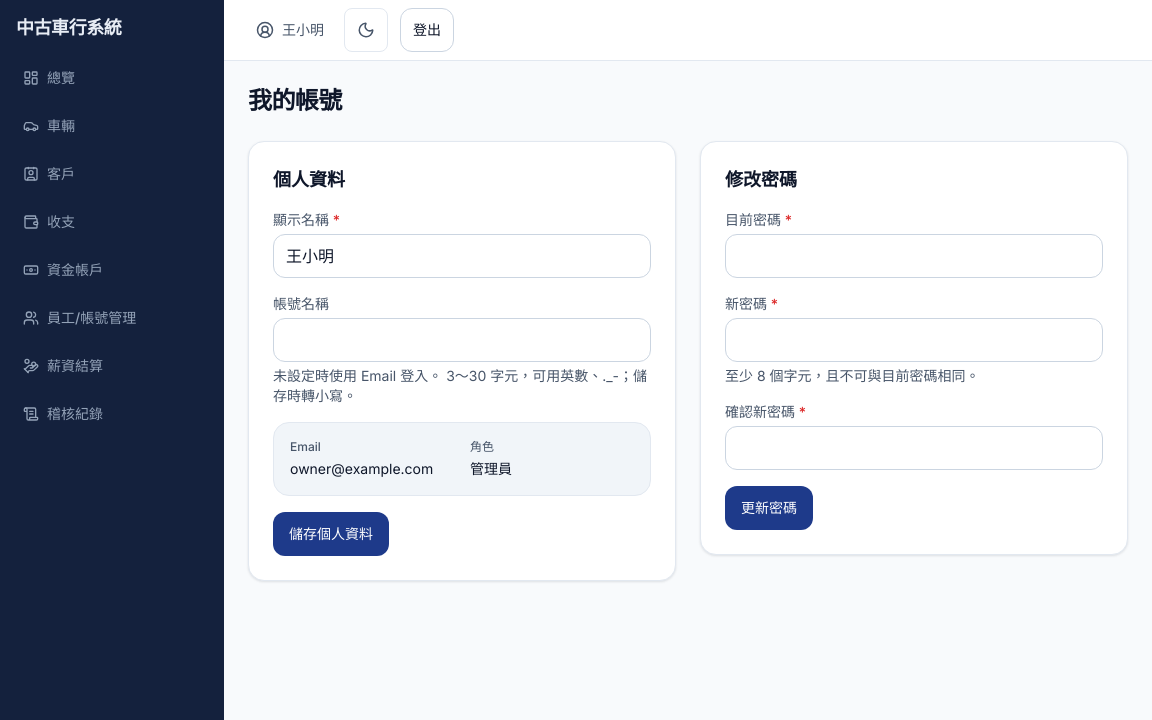
Test: Account › loads the current user, keeps email and role readonly, and updates the header name
Expected: the heading "我的帳號" is shown, x1=248 y1=86 x2=342 y2=115
Expected: the text "owner@example.com" is shown, x1=290 y1=459 x2=454 y2=479
Replace the text in the field labelled "顯示名稱 *" with "新顯示名稱" at (462, 256), box x1=273 y1=234 x2=651 y2=278
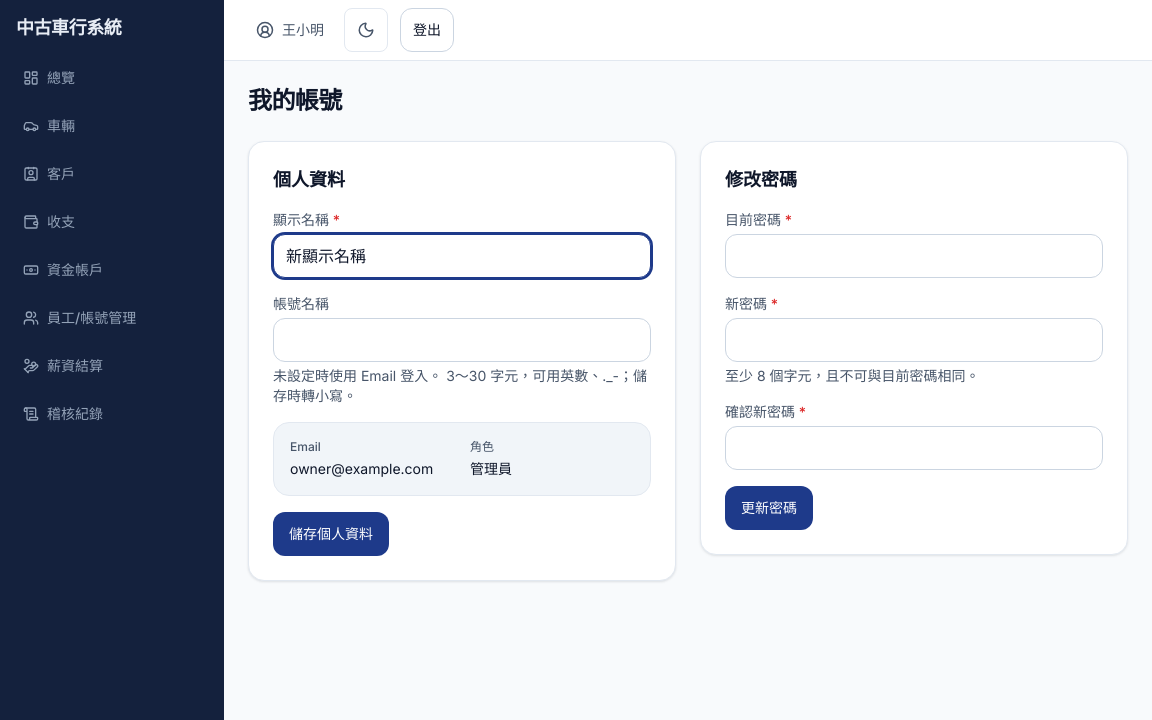
Type "  OwNeR  " into the field labelled "帳號名稱".
click(462, 340); type("  OwNeR  ")  # box x1=273 y1=318 x2=651 y2=362
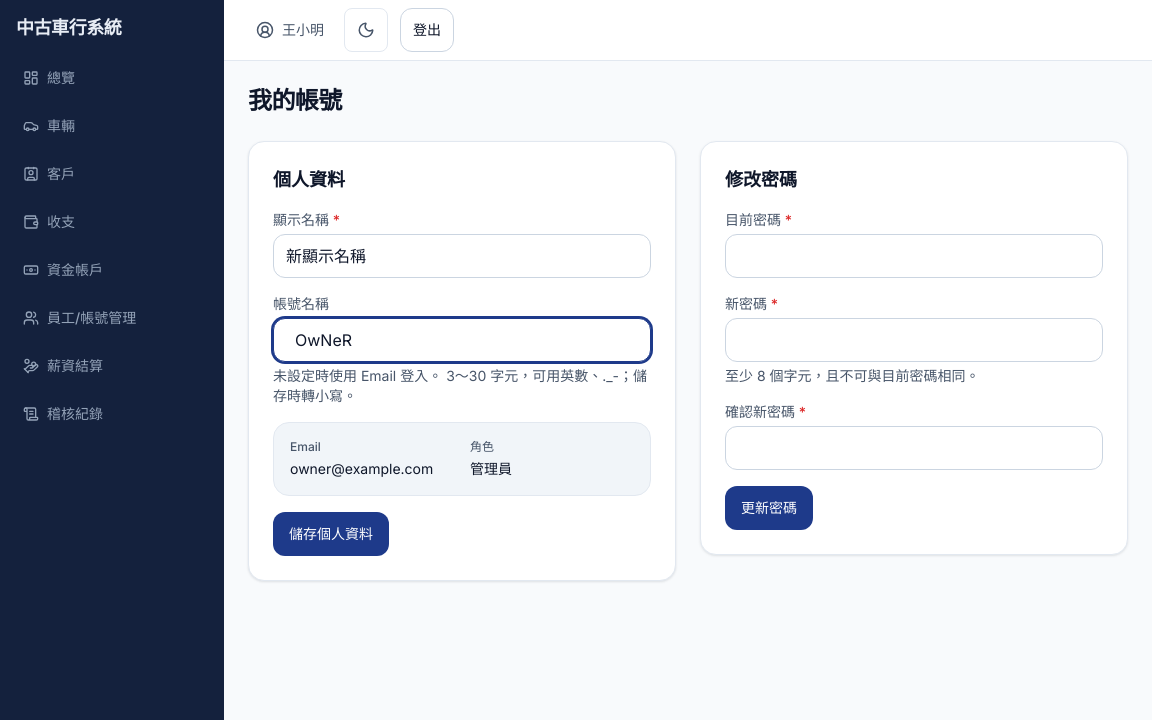
Click the button "儲存個人資料".
click(331, 534)  # box x1=273 y1=512 x2=389 y2=556
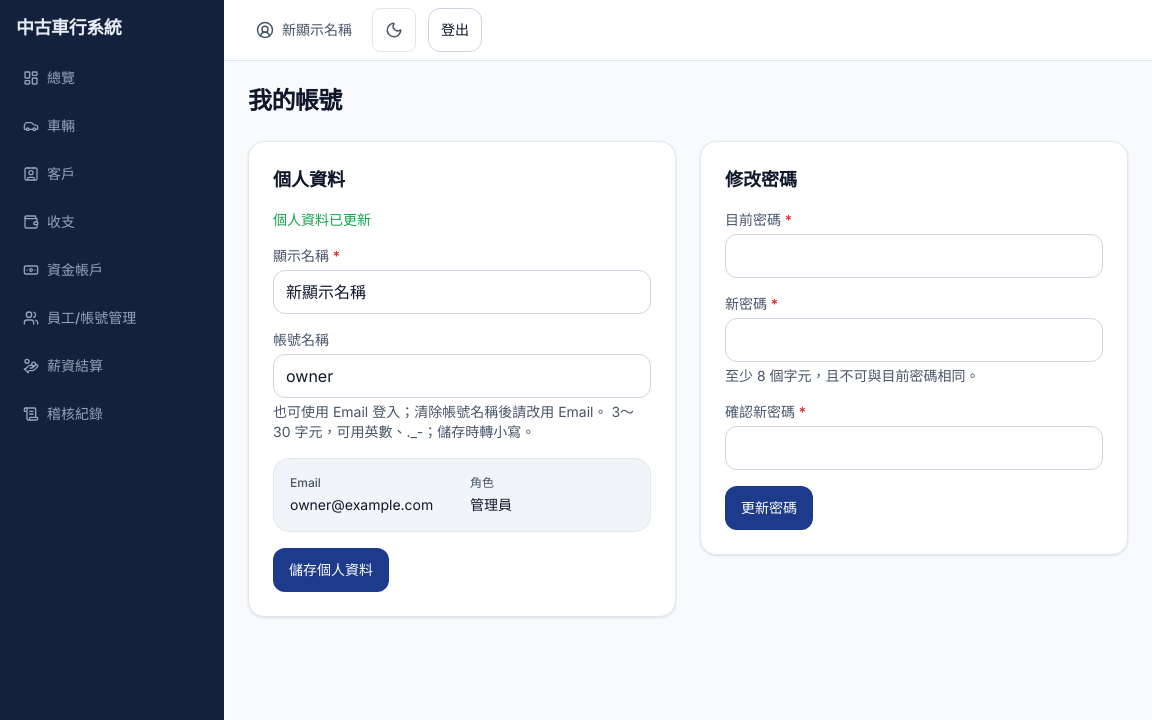
Expected: the text "個人資料已更新" is shown, x1=273 y1=211 x2=371 y2=228
